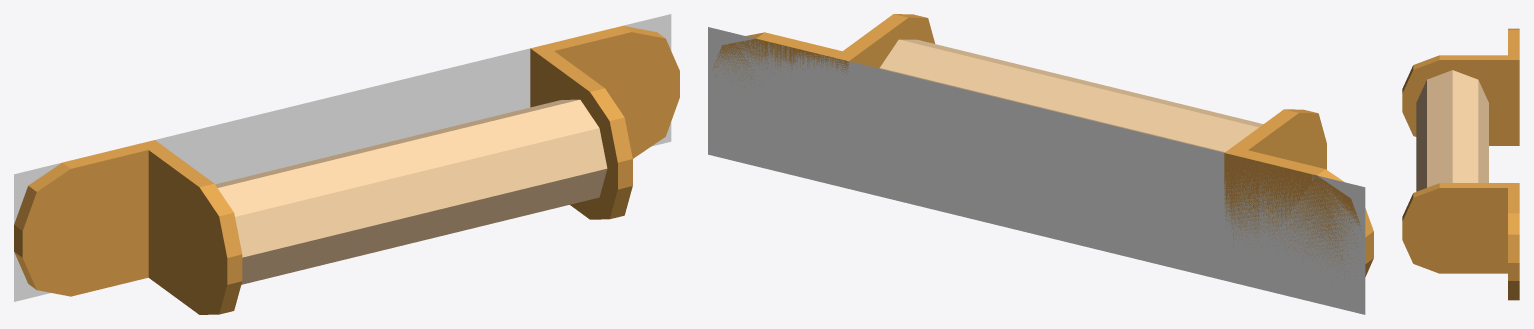
Rendered from 壁挂爬柱横款.glb.
3 views of the same model, side by side, from view 1: azimuth 30°, elevation 25°; view 2: azimuth 150°, elevation 25°; view 3: azimuth 270°, elevation 25° (orthographic). The views are drawn at different scales.
Visible parts, largest first — view 1: 立方体.010, 柱体.002, 壁挂爬柱横款; view 2: 壁挂爬柱横款, 立方体.010, 柱体.002; view 3: 立方体.010, 柱体.002.
Part boxes in pixels (left/top/right/bottom): 立方体.010: left=14, top=25, right=679, bottom=314; 柱体.002: left=215, top=99, right=607, bottom=284; 壁挂爬柱横款: left=14, top=14, right=671, bottom=301; 壁挂爬柱横款: left=708, top=27, right=1365, bottom=314; 立方体.010: left=711, top=14, right=1373, bottom=277; 柱体.002: left=879, top=39, right=1263, bottom=152; 立方体.010: left=1402, top=28, right=1519, bottom=300; 柱体.002: left=1416, top=70, right=1488, bottom=191.
Bounding box in the file's own units: 0.7 × 0.13 × 0.1613.
